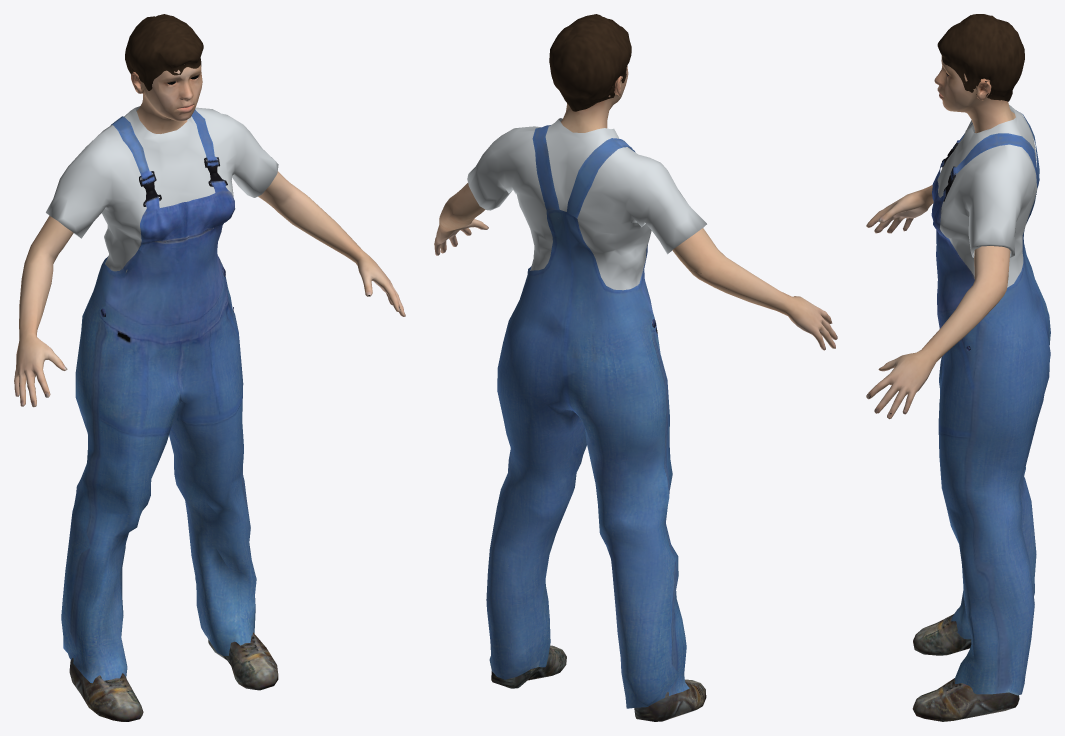
Rendered from farmer_draft.glb.
3 renders of one model, left to right at view 1: azimuth 30°, elevation 25°; view 2: azimuth 150°, elevation 25°; view 3: azimuth 270°, elevation 25°, orthographic. The views are drawn at different scales.
Parts seen in each view (by area): view 1: Farmer_Adult_Woman_Draft; view 2: Farmer_Adult_Woman_Draft; view 3: Farmer_Adult_Woman_Draft.
Part boxes in pixels (x1,y1,x2,y2): Farmer_Adult_Woman_Draft: (14, 14, 405, 721); Farmer_Adult_Woman_Draft: (434, 14, 837, 721); Farmer_Adult_Woman_Draft: (866, 14, 1050, 721).
Bounding box in the file's own units: 0.9724 × 1.61 × 0.4067.
Materials: 1 (1 with a texture image).
